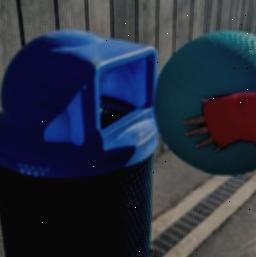algae: (160, 28, 256, 173)
